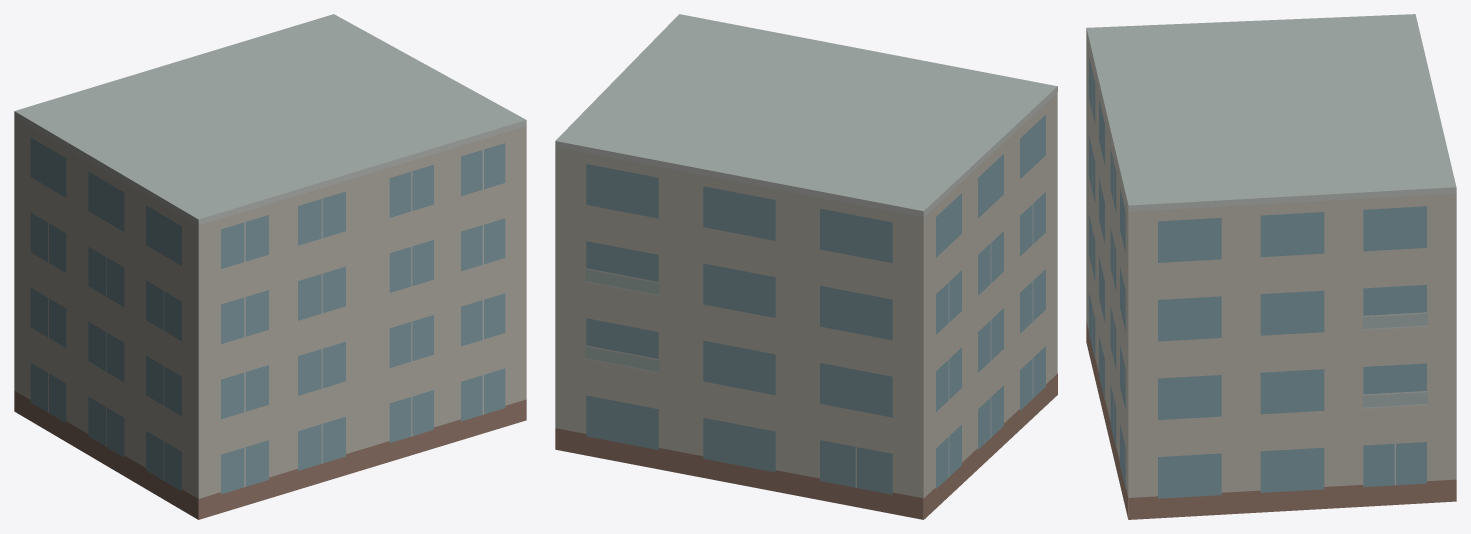
The model's file is survey-upis-32855379.glb.
3 renders of one model, left to right at view 1: azimuth 30°, elevation 25°; view 2: azimuth 150°, elevation 25°; view 3: azimuth 270°, elevation 25°, orthographic. The views are drawn at different scales.
Parts seen in each view (by area): view 1: survey-upis-32855379.tmp; view 2: survey-upis-32855379.tmp; view 3: survey-upis-32855379.tmp.
Part boxes in pixels (box(x1,y1,x2,y2)): survey-upis-32855379.tmp: box(14, 14, 526, 519); survey-upis-32855379.tmp: box(555, 14, 1057, 519); survey-upis-32855379.tmp: box(1086, 14, 1456, 519).
Size of the model in its own units: 15.96 by 12.2 by 13.03.
